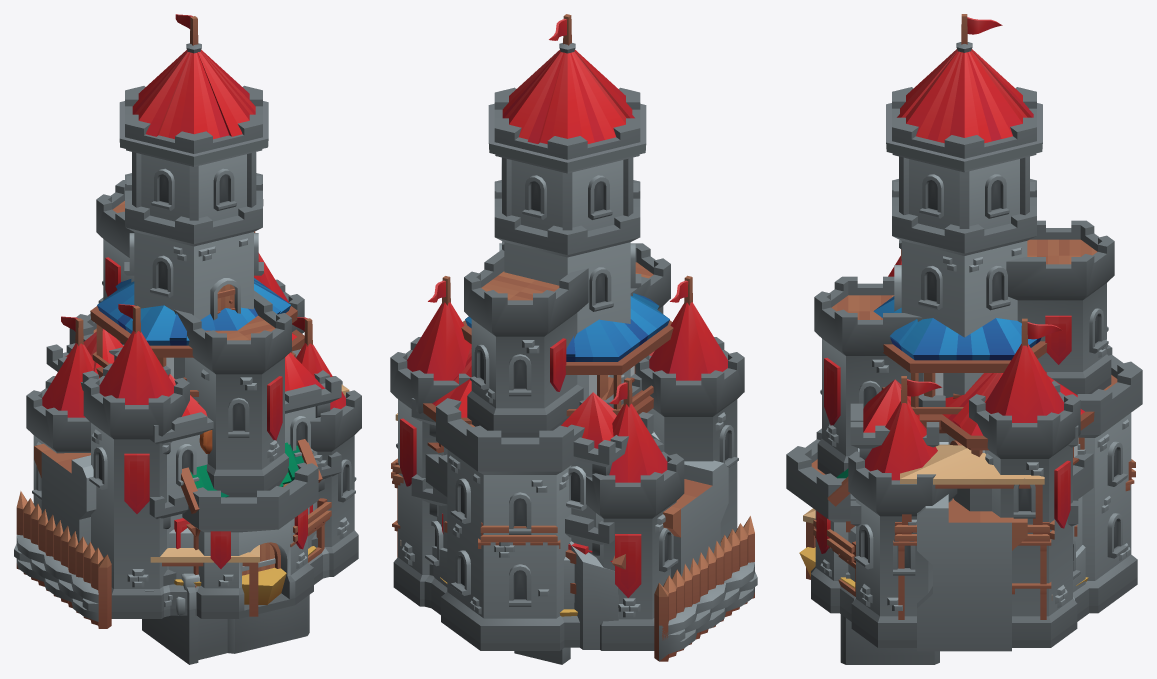
Rendered from town.glb.
3 renders of one model, left to right at view 1: azimuth 30°, elevation 25°; view 2: azimuth 150°, elevation 25°; view 3: azimuth 270°, elevation 25°, orthographic. The views are drawn at different scales.
Visible parts, largest first — view 1: building_castle_red, building_barracks_red, building_watermill_green, building_tower_B_top_blue, fence_wood_straight, wall_straight_gate, building_scaffolding, fence_stone_straight, wall_straight, building_grain; view 2: building_castle_red, building_barracks_red, building_tower_B_top_blue, fence_wood_straight, building_mine_red, fence_stone_straight, wall_straight, building_archeryrange_red, wall_straight_gate, building_scaffolding, building_watermill_green; view 3: building_castle_red, wall_straight, building_scaffolding, building_tower_B_top_blue, building_archeryrange_red, wall_straight_gate, building_barracks_red, building_watermill_green.
Boxes of the visible parts, x1,y1,x2,y2 form: building_castle_red: (26,14,361,618); building_barracks_red: (46,328,341,617); building_watermill_green: (142,439,322,664); building_tower_B_top_blue: (90,278,297,403); fence_wood_straight: (16,491,111,628); wall_straight_gate: (40,452,96,544); building_scaffolding: (150,384,349,616); fence_stone_straight: (14,534,98,621); wall_straight: (34,444,91,525); building_grain: (174,546,316,604); building_castle_red: (390,14,744,650); building_barracks_red: (411,351,654,607); building_tower_B_top_blue: (461,293,673,416); fence_wood_straight: (654,516,754,661); building_mine_red: (432,541,618,649); fence_stone_straight: (659,562,757,661); wall_straight: (663,460,728,576); building_archeryrange_red: (423,348,625,569); wall_straight_gate: (651,431,725,578); building_scaffolding: (391,413,560,557); building_watermill_green: (514,647,570,664); building_castle_red: (786,14,1142,647); wall_straight: (917,494,1027,651); building_scaffolding: (803,444,1135,619); building_tower_B_top_blue: (873,296,1047,433); building_archeryrange_red: (933,371,1094,579); wall_straight_gate: (917,433,1027,651); building_barracks_red: (850,379,1078,600); building_watermill_green: (827,468,939,664).
Bounding box in the file's own units: 2.1 × 4.33 × 2.26.
Materials: 1 (1 with a texture image).
